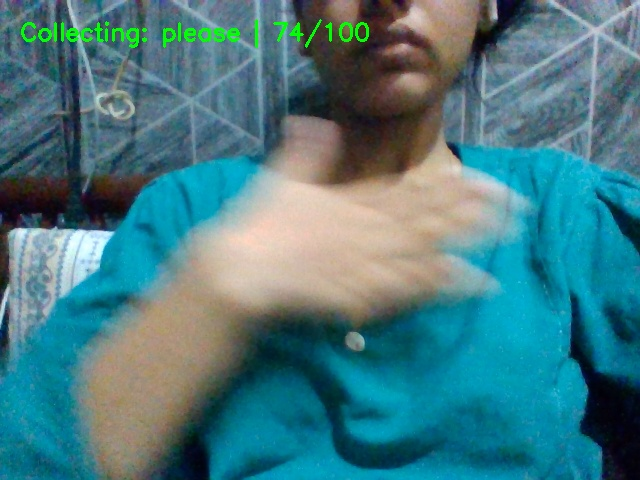please: (169, 113, 545, 344)
